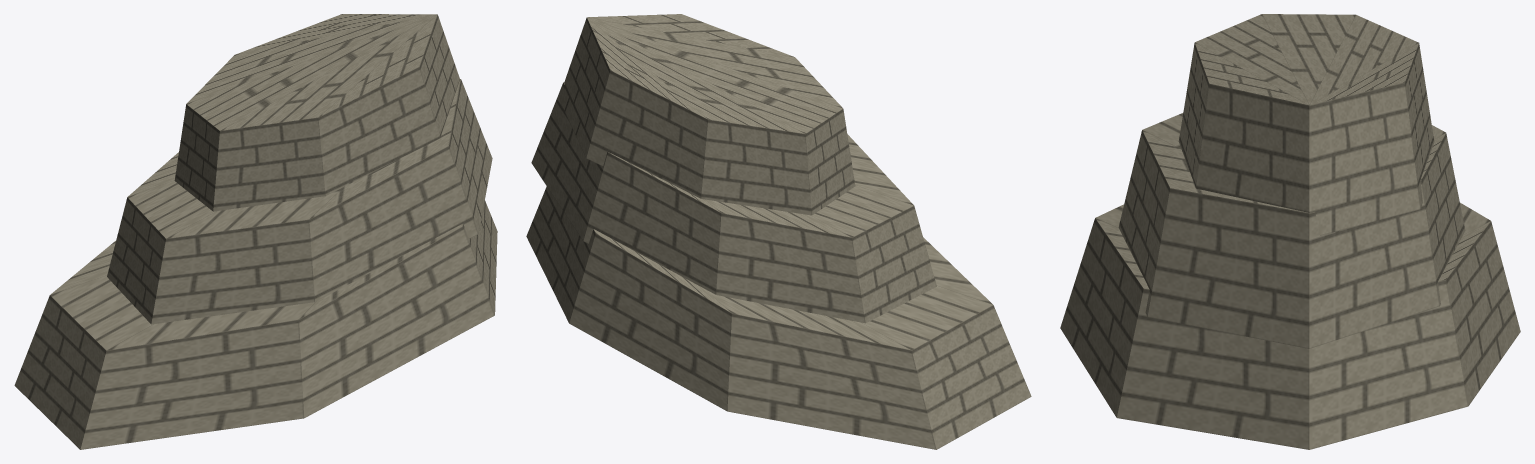
The model's file is rock-strata-lod0.glb.
The picture shows the model from 3 angles, left to right: view 1: azimuth 30°, elevation 25°; view 2: azimuth 150°, elevation 25°; view 3: azimuth 270°, elevation 25°; orthographic projection. The views are drawn at different scales.
Bounding box in the file's own units: 0.5775 × 0.3709 × 0.38.
1 material, 1 textured.
